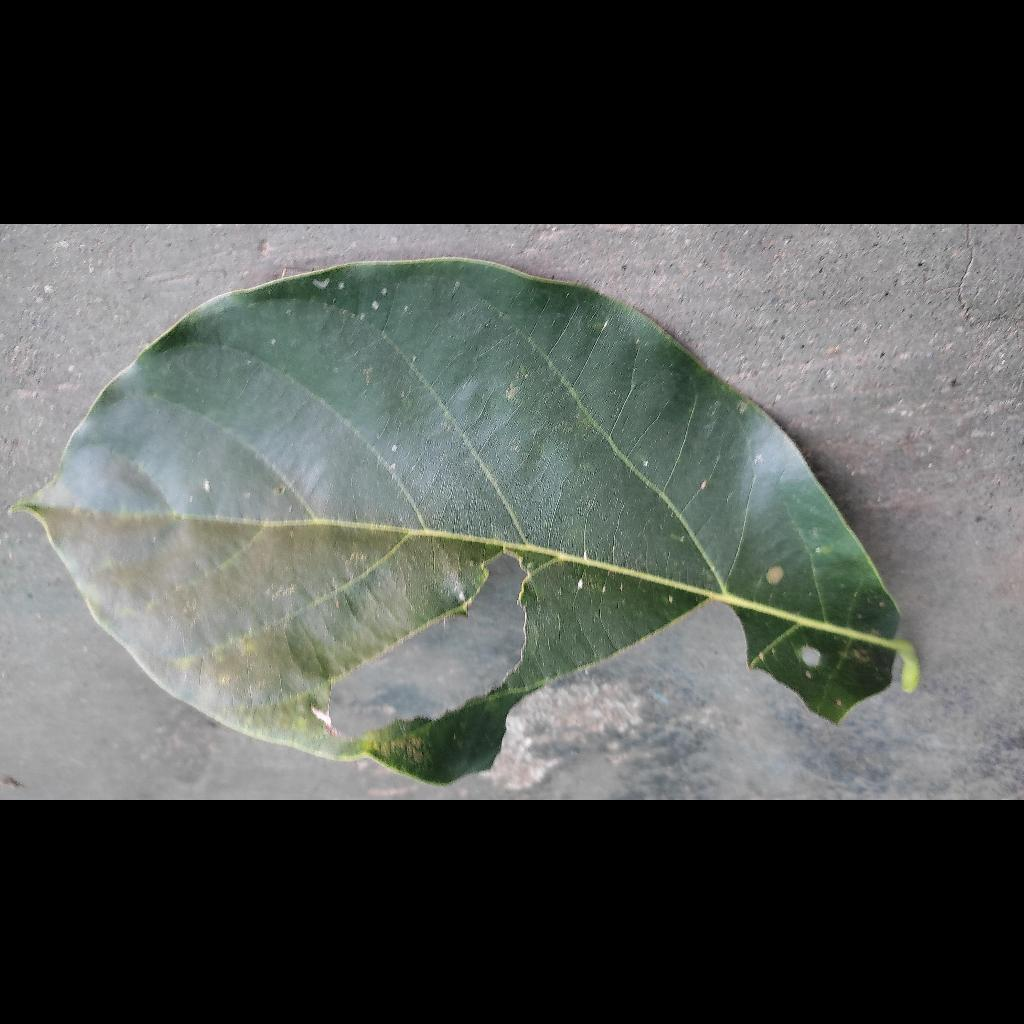Pest Infested: (118, 240, 1007, 764)
